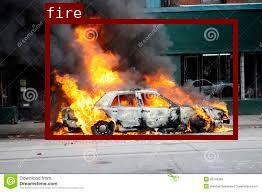fire: (44, 18, 236, 139)
